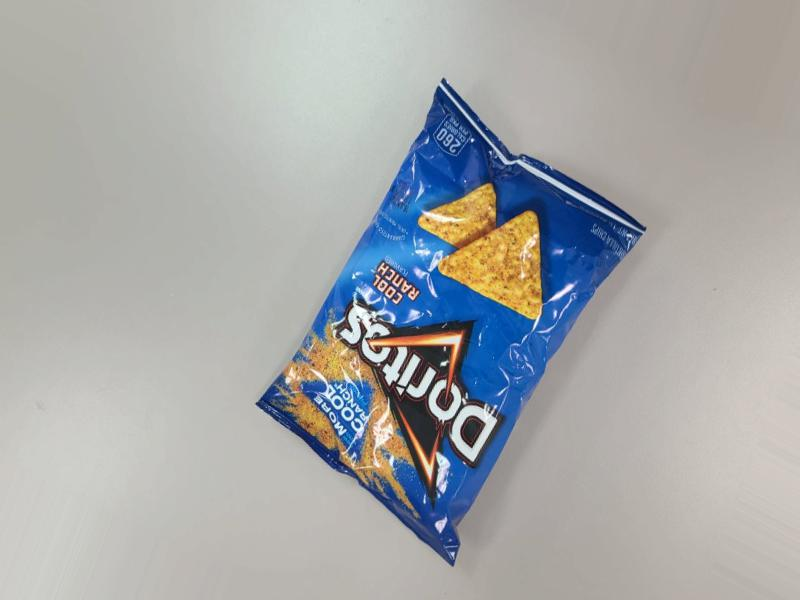doritos: (365, 149, 686, 600)
